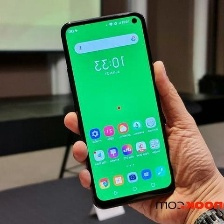phone: (58, 8, 177, 212)
